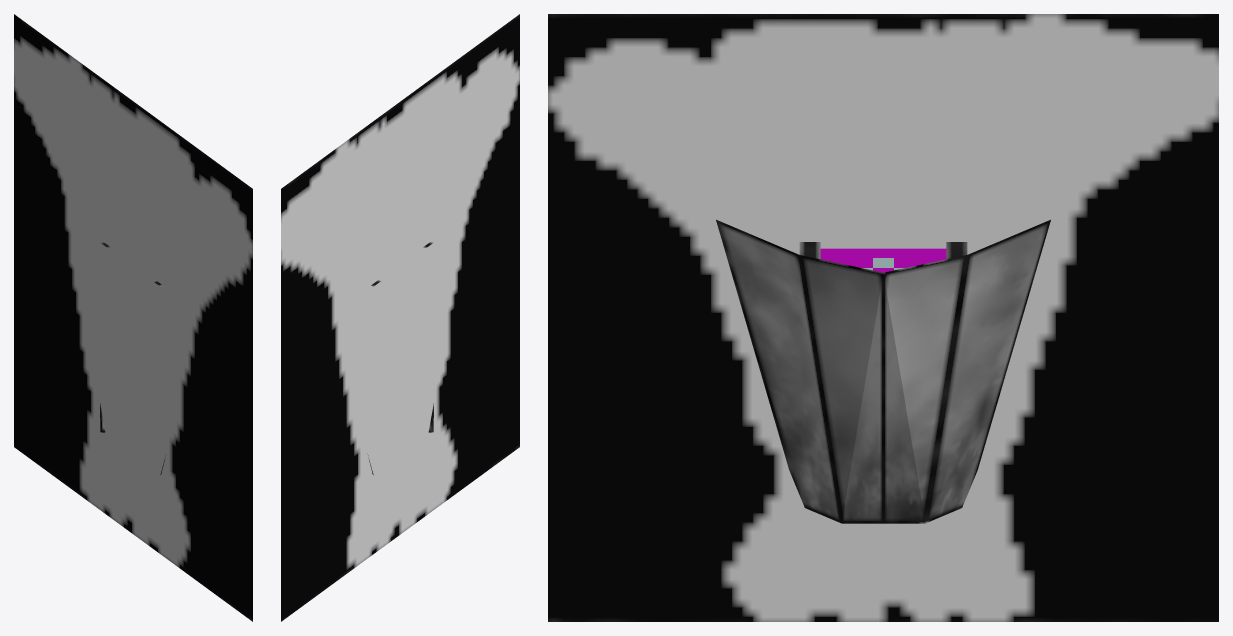
The model's file is SconceLamp.obj.
The picture shows the model from 3 angles, left to right: view 1: azimuth 30°, elevation 25°; view 2: azimuth 150°, elevation 25°; view 3: azimuth 270°, elevation 25°; orthographic projection. The views are drawn at different scales.
Parts seen in each view (by area): view 1: lightAlpha; view 2: lightAlpha; view 3: lightAlpha, socket, lamp.
Boxes of the visible parts, x1,y1,x2,y2 form: lightAlpha: [14, 14, 252, 621]; lightAlpha: [281, 14, 519, 621]; lightAlpha: [548, 14, 1218, 621]; socket: [716, 219, 1050, 523]; lamp: [820, 248, 946, 272].
Bounding box in the file's own units: 0.25 × 1 × 1.
